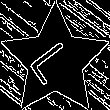L_NE: (27, 34, 83, 88)
